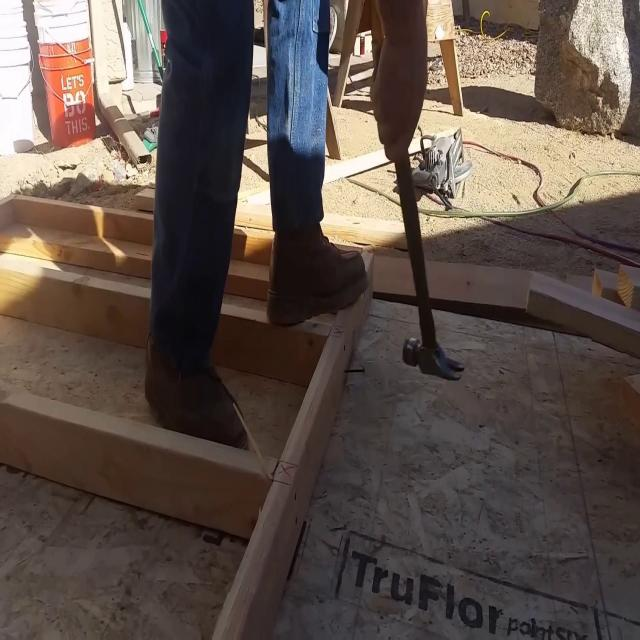hammer: (372, 34, 466, 382)
